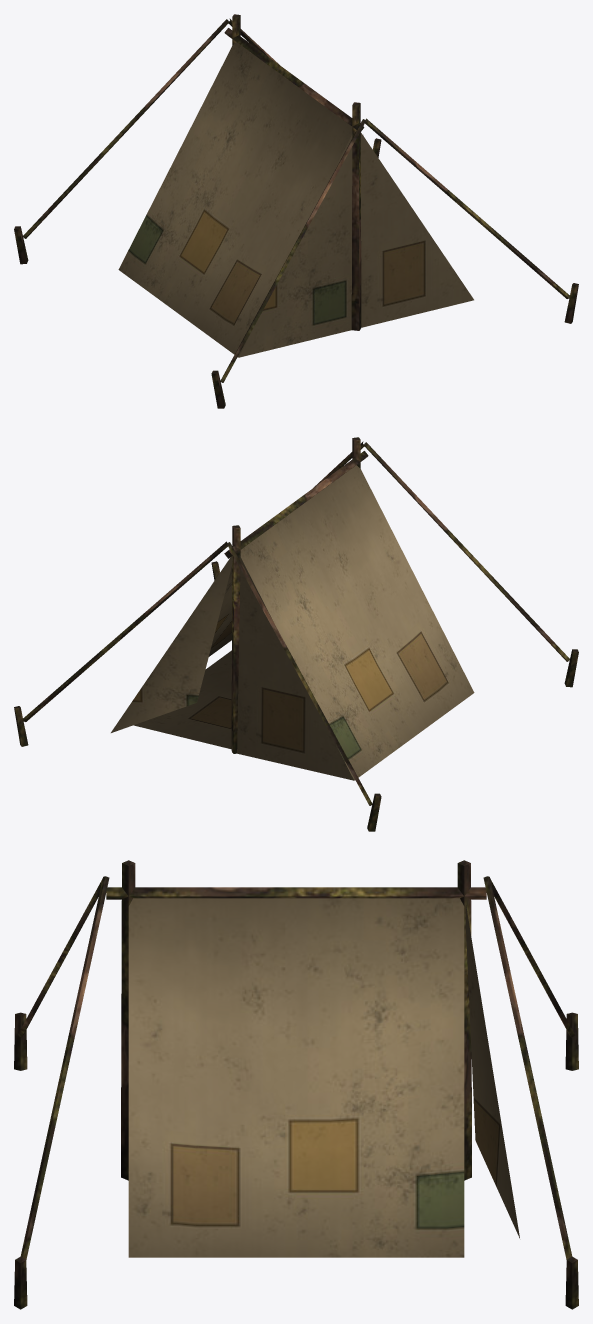
The model's file is camp_tent.glb.
The picture shows the model from 3 angles, top to bottom: view 1: azimuth 30°, elevation 25°; view 2: azimuth 150°, elevation 25°; view 3: azimuth 270°, elevation 25°; orthographic projection. The views are drawn at different scales.
Visible parts, largest first — view 1: camp_tent; view 2: camp_tent; view 3: camp_tent.
Boxes of the visible parts, box(x1,y1,x2,y2) form: camp_tent: box(14, 14, 578, 408); camp_tent: box(14, 437, 578, 831); camp_tent: box(14, 860, 578, 1309).
Size of the model in its own units: 2.65 by 1.61 by 2.53.
2 materials, 2 textured.
